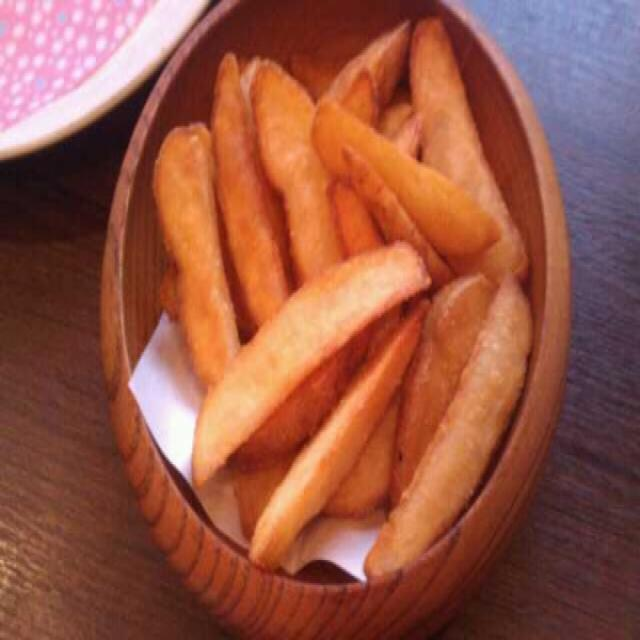French Fries: (138, 16, 529, 557)
